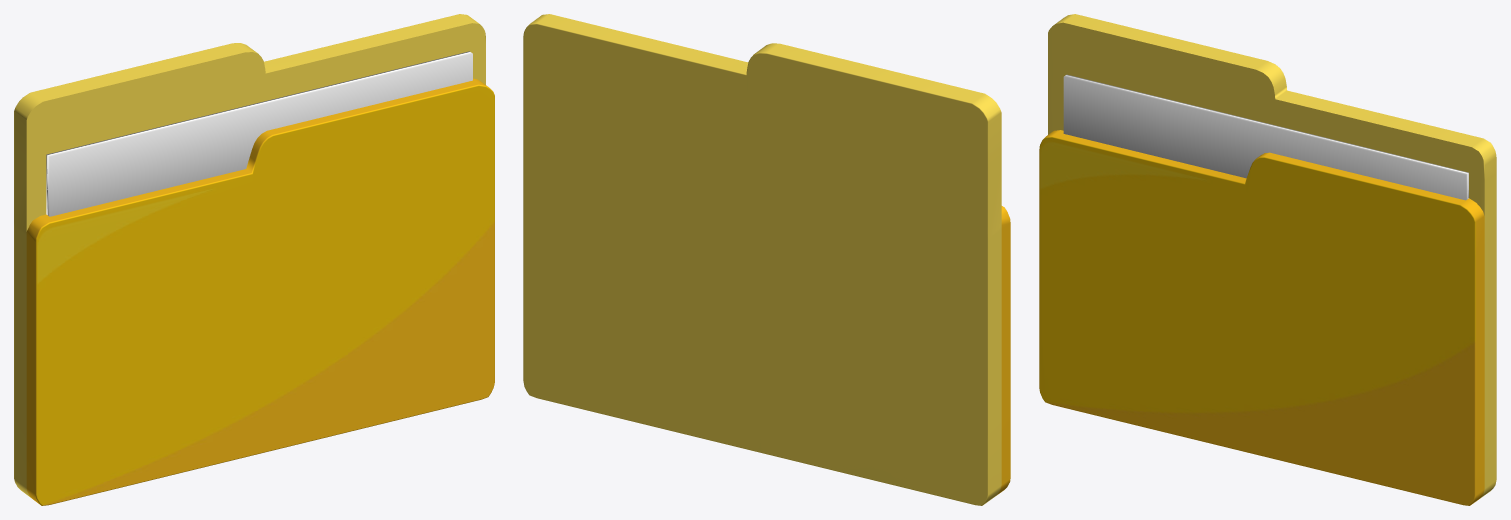
File: Folder.glb
3 views of the same model, side by side, from view 1: azimuth 30°, elevation 25°; view 2: azimuth 150°, elevation 25°; view 3: azimuth 330°, elevation 25° (orthographic). The views are drawn at different scales.
Visible parts, largest first — view 1: Folder; view 2: Folder; view 3: Folder.
Part boxes in pixels (x1=…): Folder: x1=14, y1=14, x2=494, y2=505; Folder: x1=523, y1=14, x2=1010, y2=505; Folder: x1=1039, y1=14, x2=1496, y2=505.
Bounding box in the file's own units: 0.2492 × 0.2055 × 0.021.
1 material, 1 textured.
